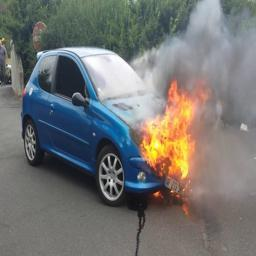fire: (140, 79, 213, 179)
